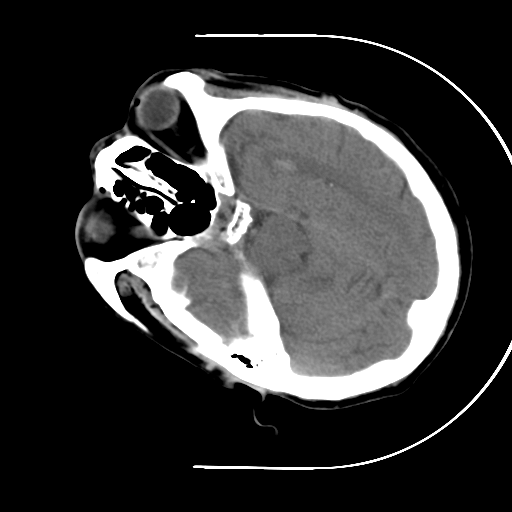a: (247, 137, 319, 195)
